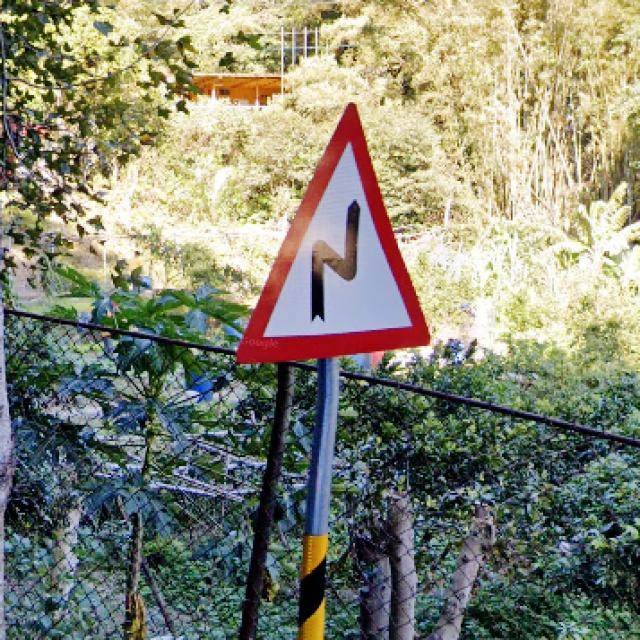doublebendright: (237, 102, 434, 366)
